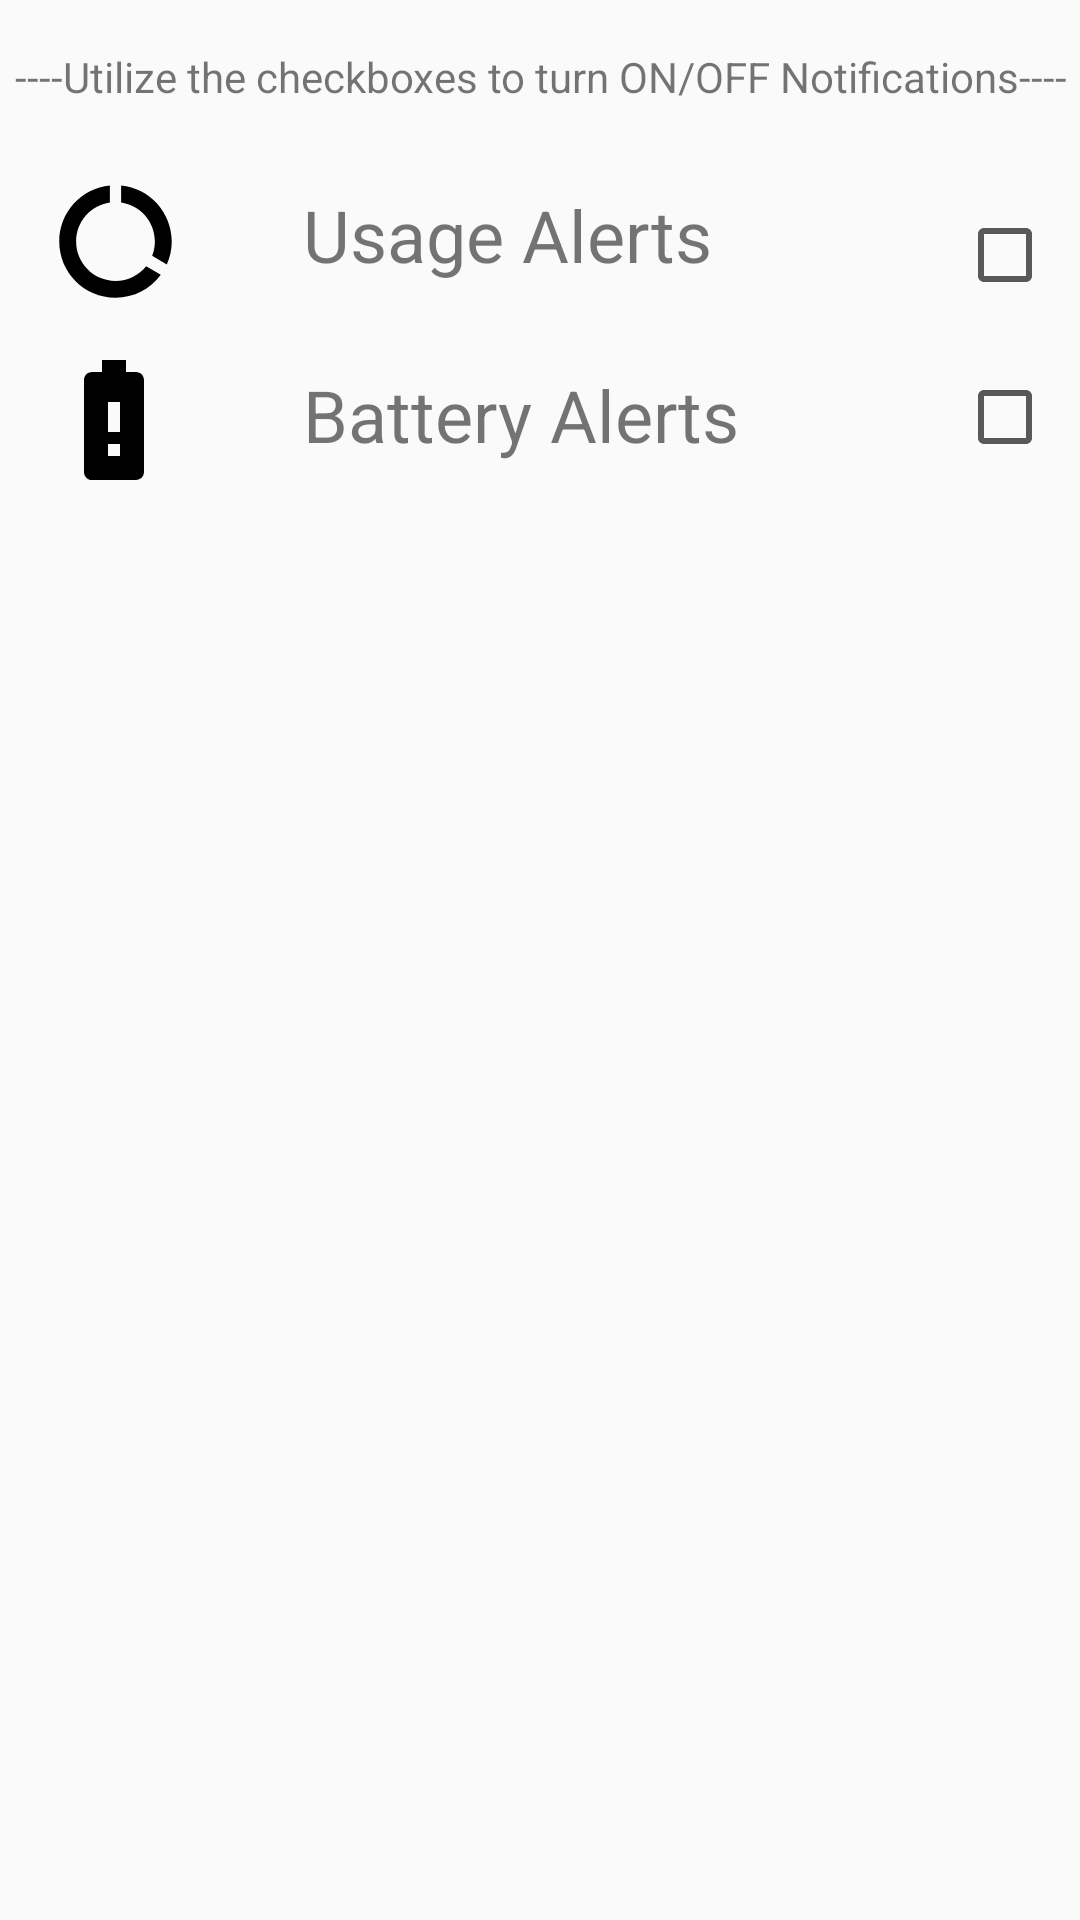

Icons on this 1080 × 1920 Android screen, each with the point to tap as (x=x, y=y):
data usage: (x=115, y=241)
